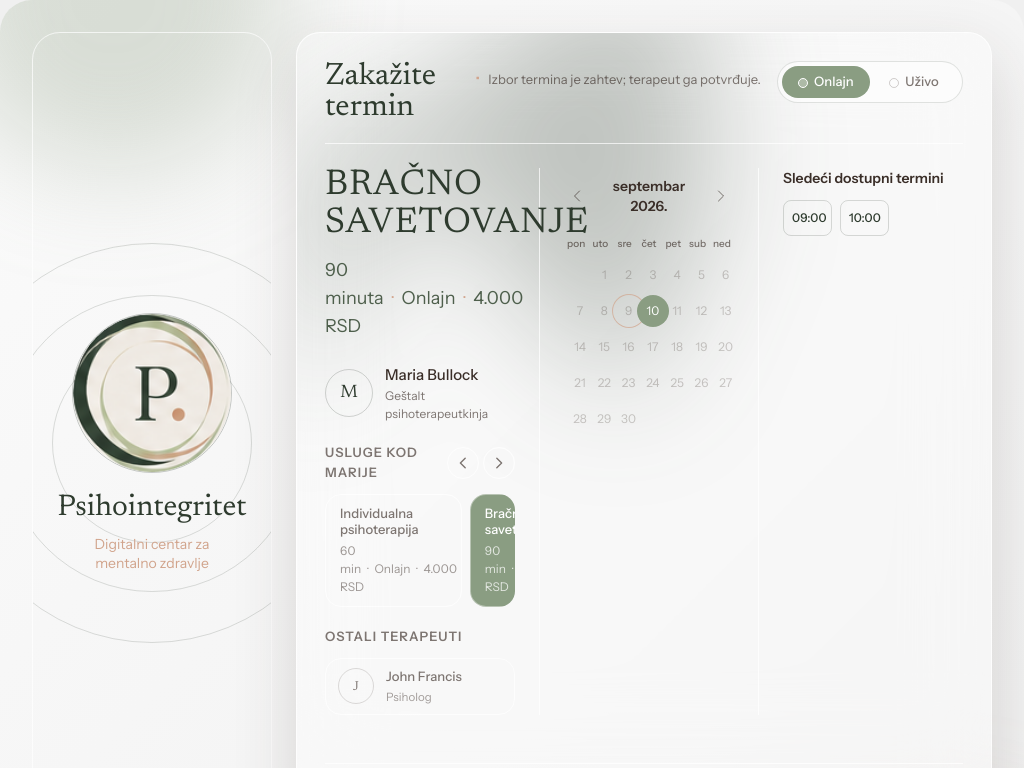
it: changing therapist › keeps a compatible service and resets the slot
Click the button "09:00" at (808, 218), box [783,200,832,236]
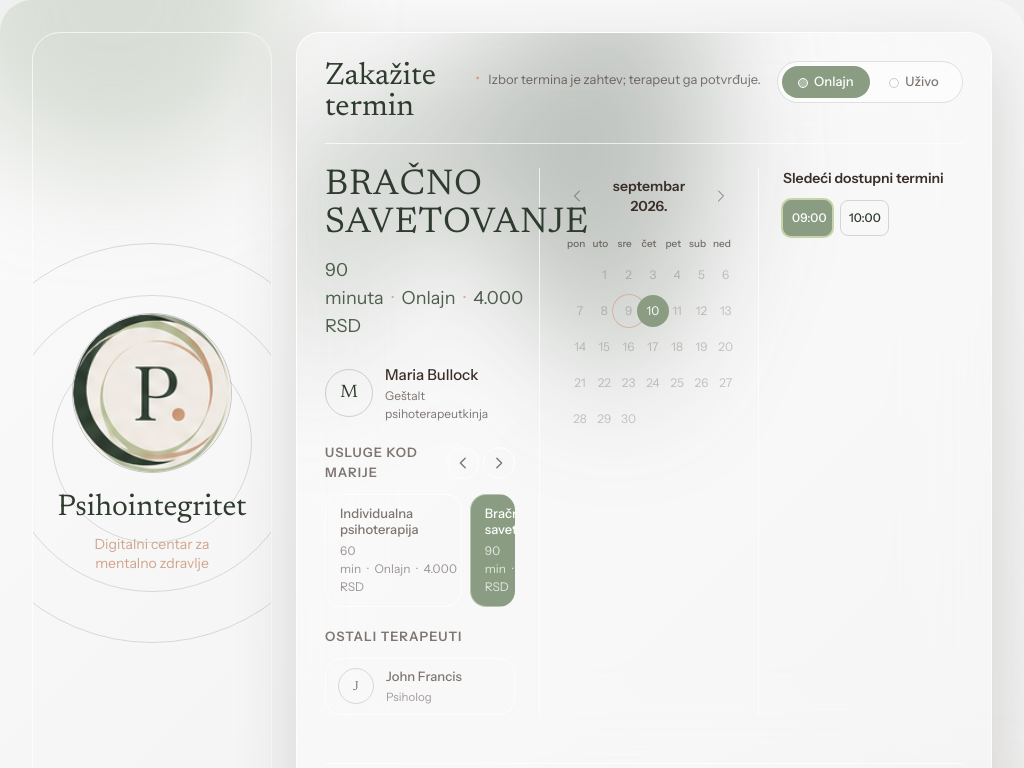
Check: the button "09:00" is pressed, box [783,200,832,236]
Click the button "J John Francis Psiholog" at (420, 686), box [325,658,515,715]
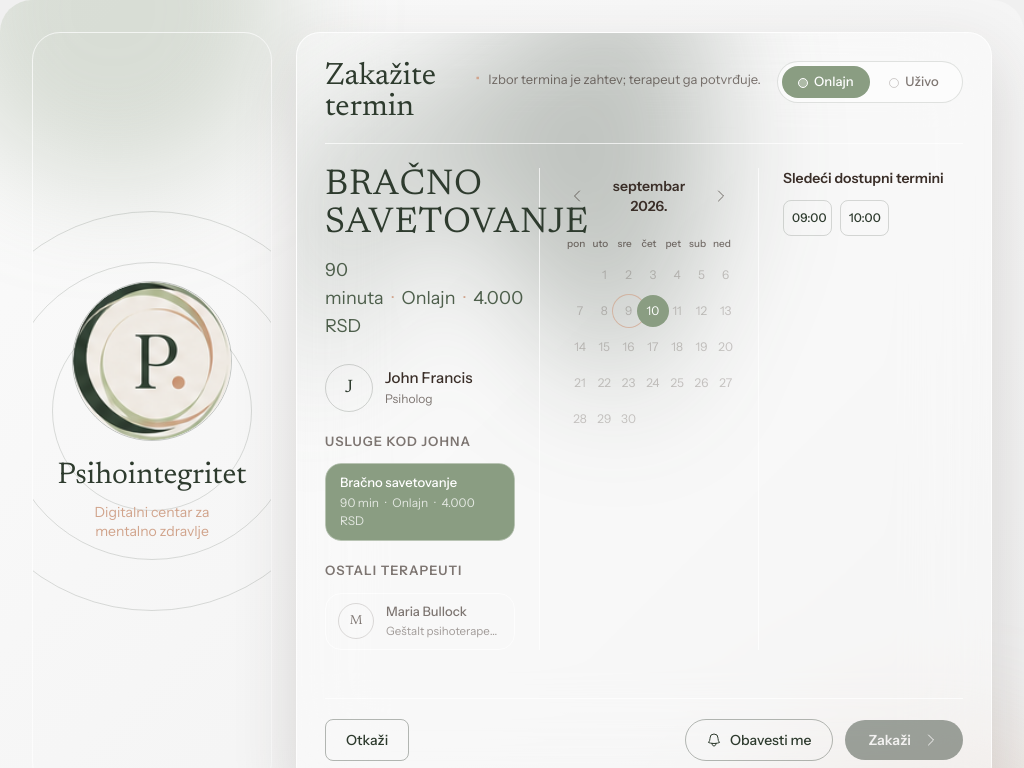
Check: the heading "Bračno savetovanje" is shown, box [325,168,515,244]
Check: the heading "Usluge kod Johna" is shown, box [325,432,471,451]
